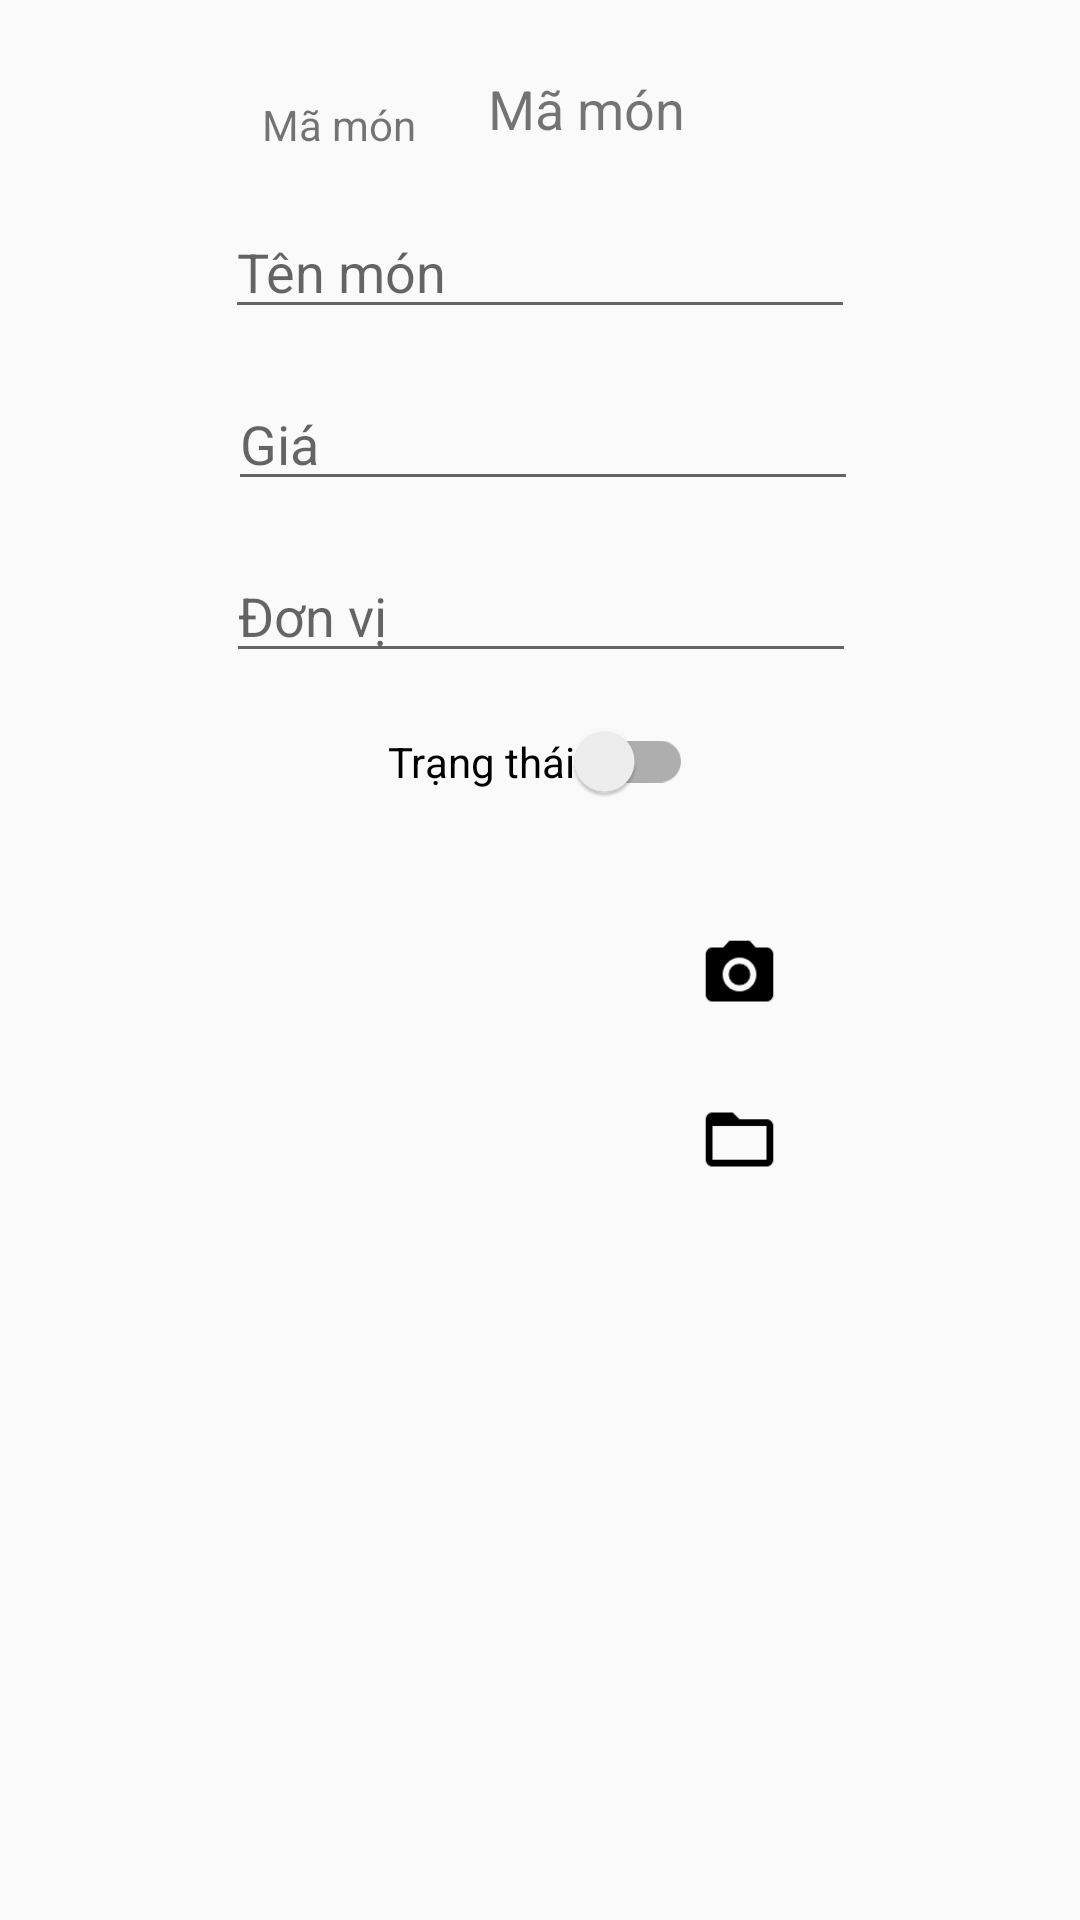

Where icons sit on this 1080w x 1920h app screen, as BBox(x1, y1, x2, y2):
camera: BBox(705, 940, 774, 1002)
folder open: BBox(705, 1112, 774, 1167)
